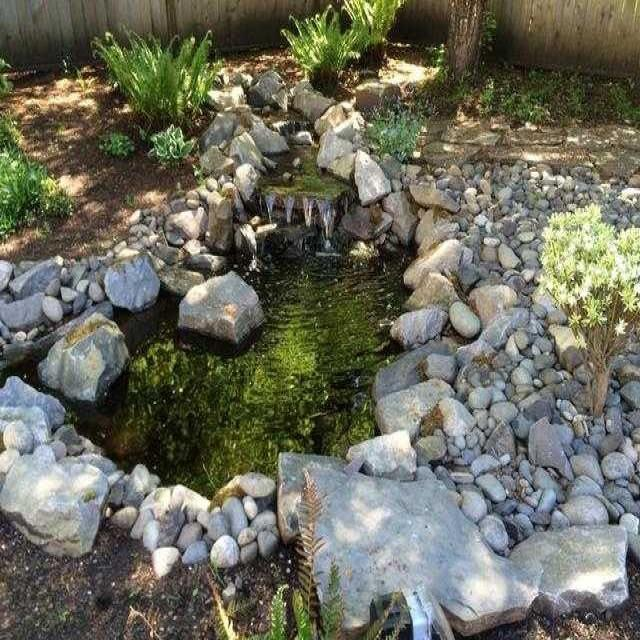Ponds: (1, 78, 481, 579)
